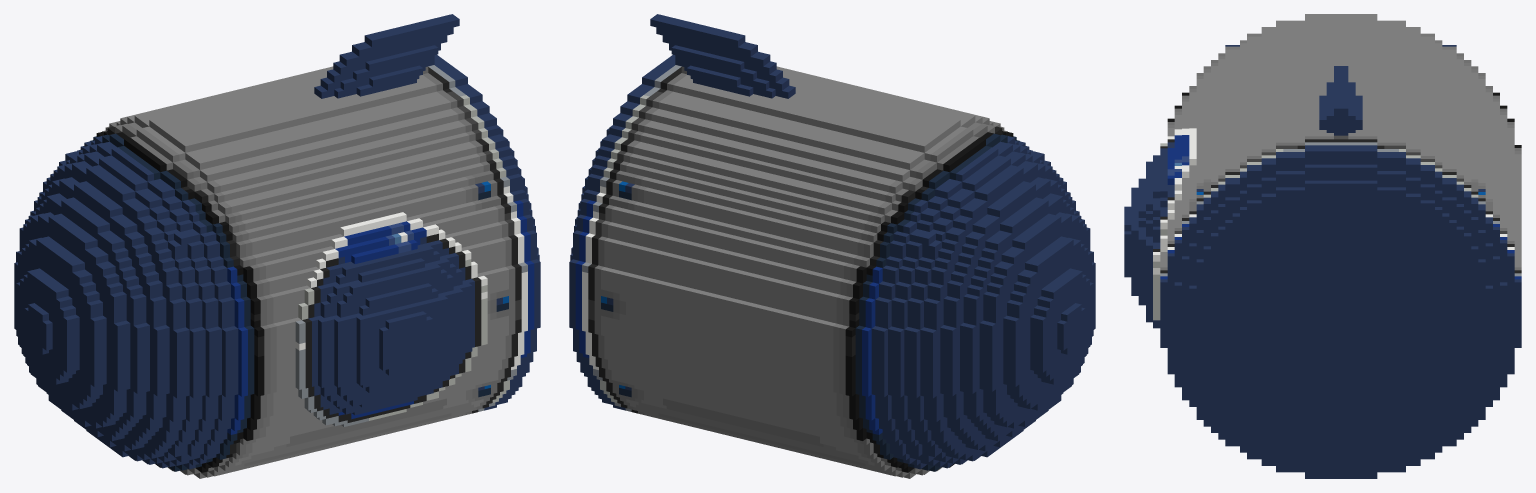
File: uchusun.obj
The picture shows the model from 3 angles, left to right: view 1: azimuth 30°, elevation 25°; view 2: azimuth 150°, elevation 25°; view 3: azimuth 270°, elevation 25°; orthographic projection.
Bounding box in the file's own units: 6.8 × 5.7 × 5.5.
Materials: 1 (1 with a texture image).
